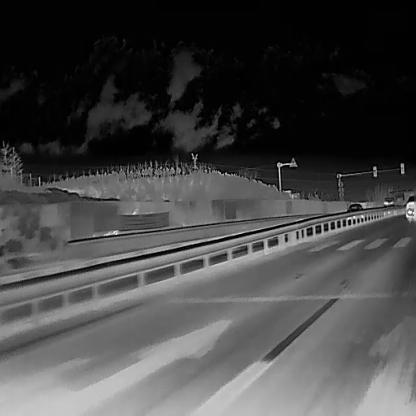car: (344, 202, 364, 220), (405, 195, 415, 221), (383, 196, 394, 206)
